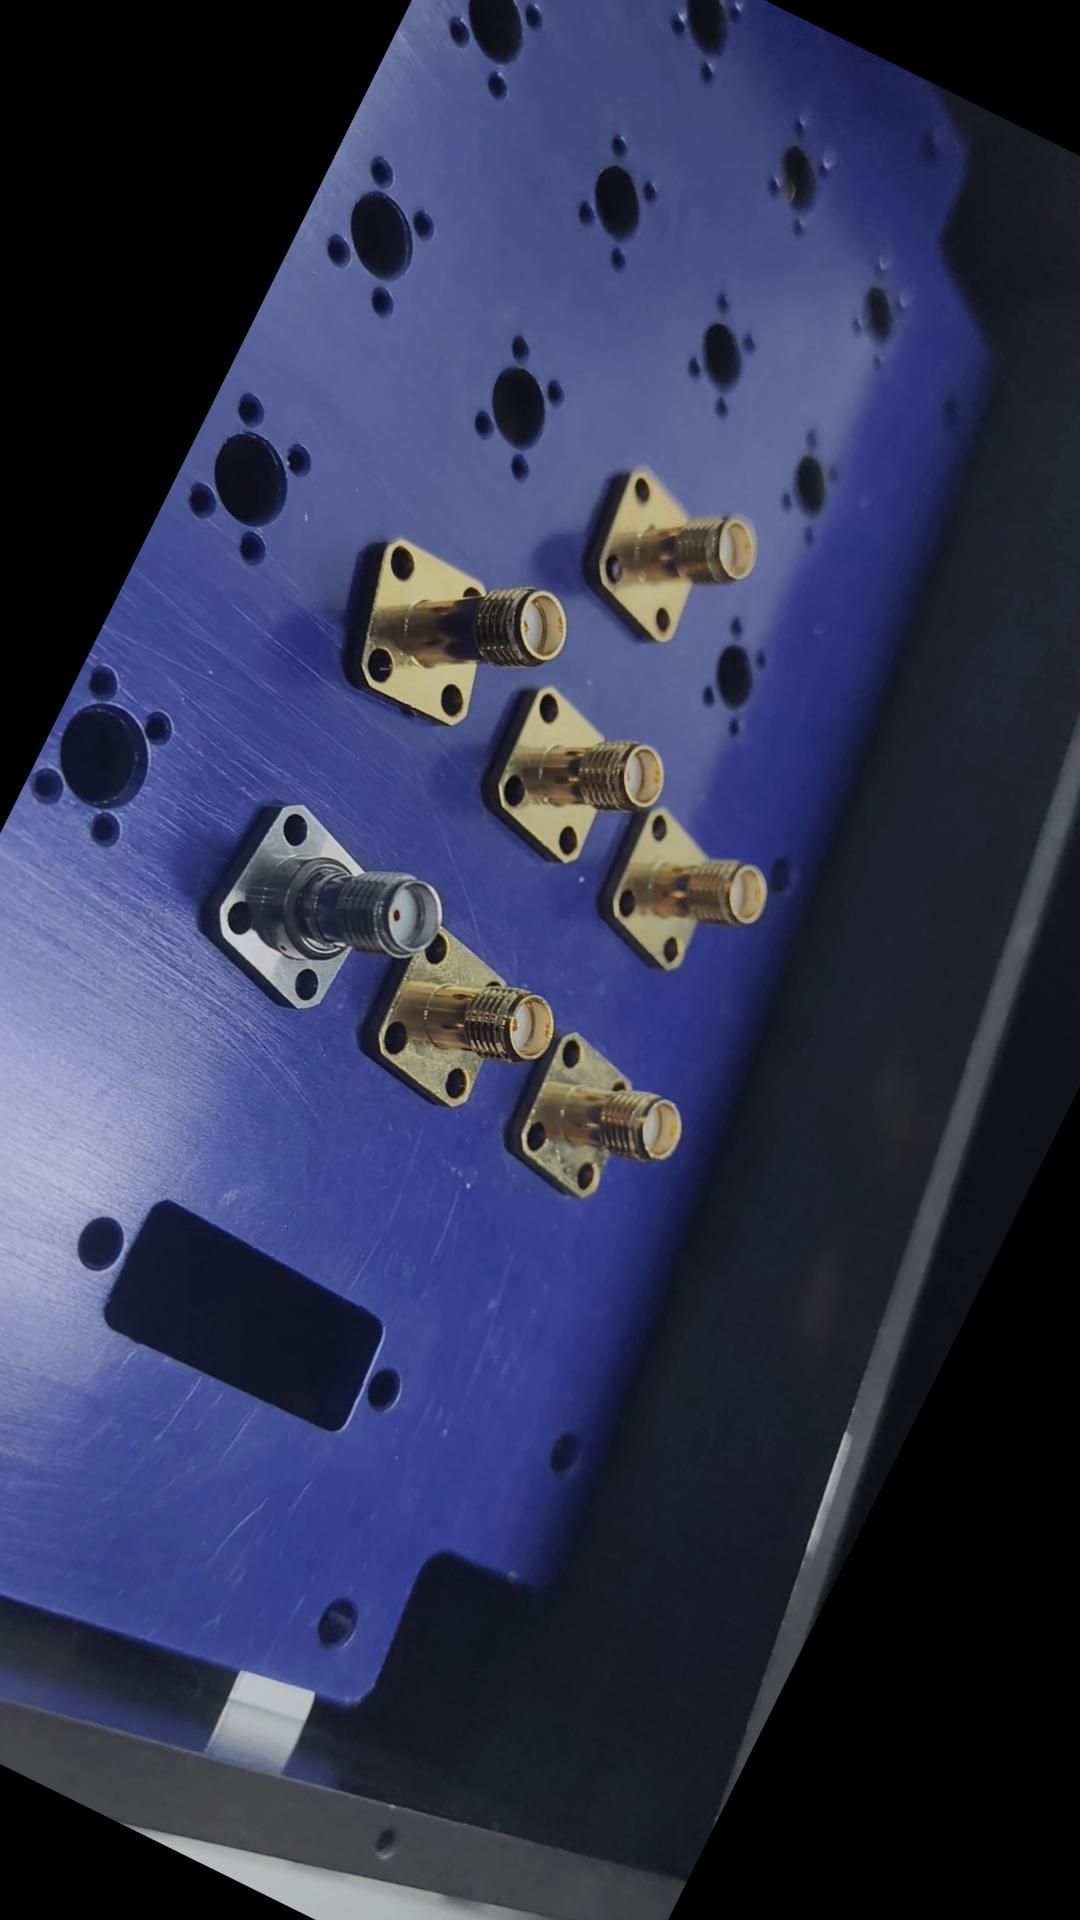SMA: (178, 782, 460, 1050), (316, 509, 582, 760), (353, 918, 574, 1137), (487, 1017, 705, 1234), (465, 679, 684, 889), (560, 456, 774, 661), (580, 798, 785, 998)
